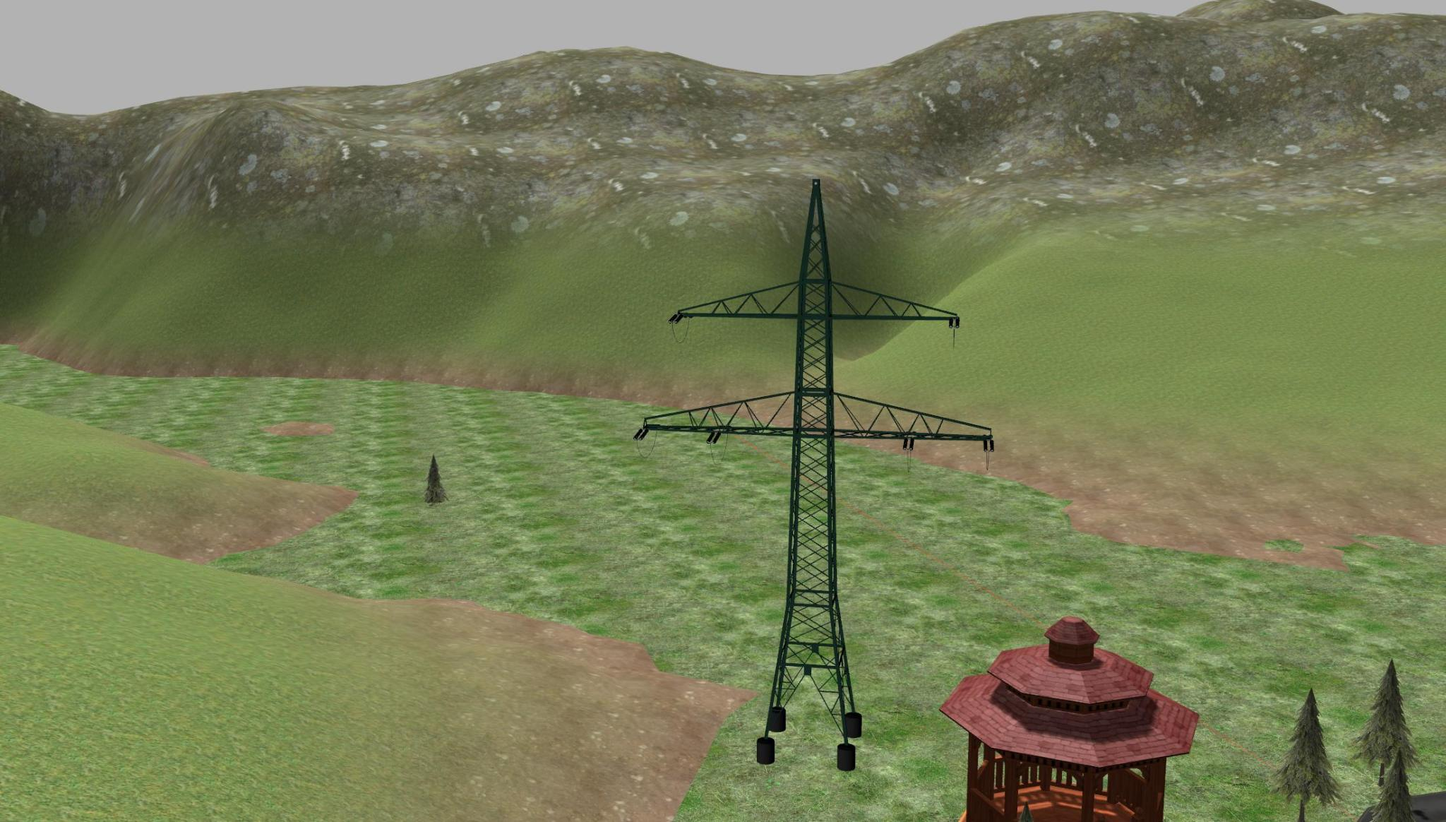tower: (645, 176, 994, 758)
